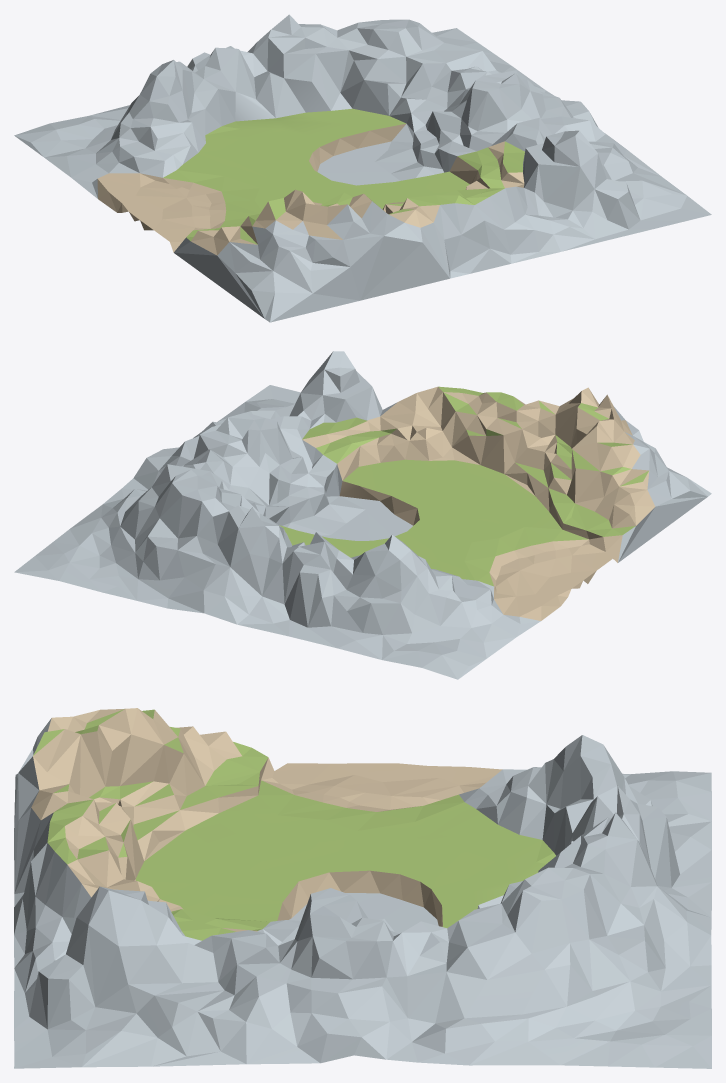
The model's file is howling_map_v2(400x400) 1.fbx.
3 renders of one model, top to bottom at view 1: azimuth 30°, elevation 25°; view 2: azimuth 150°, elevation 25°; view 3: azimuth 270°, elevation 25°, orthographic. The views are drawn at different scales.
Visible parts, largest first — view 1: Terrain.001; view 2: Terrain.001; view 3: Terrain.001.
Part boxes in pixels (x1=…): Terrain.001: x1=14, y1=14, x2=711, y2=322; Terrain.001: x1=14, y1=351, x2=711, y2=679; Terrain.001: x1=14, y1=708, x2=711, y2=1068.
Bounding box in the file's own units: 40167 × 7864 × 40016.
